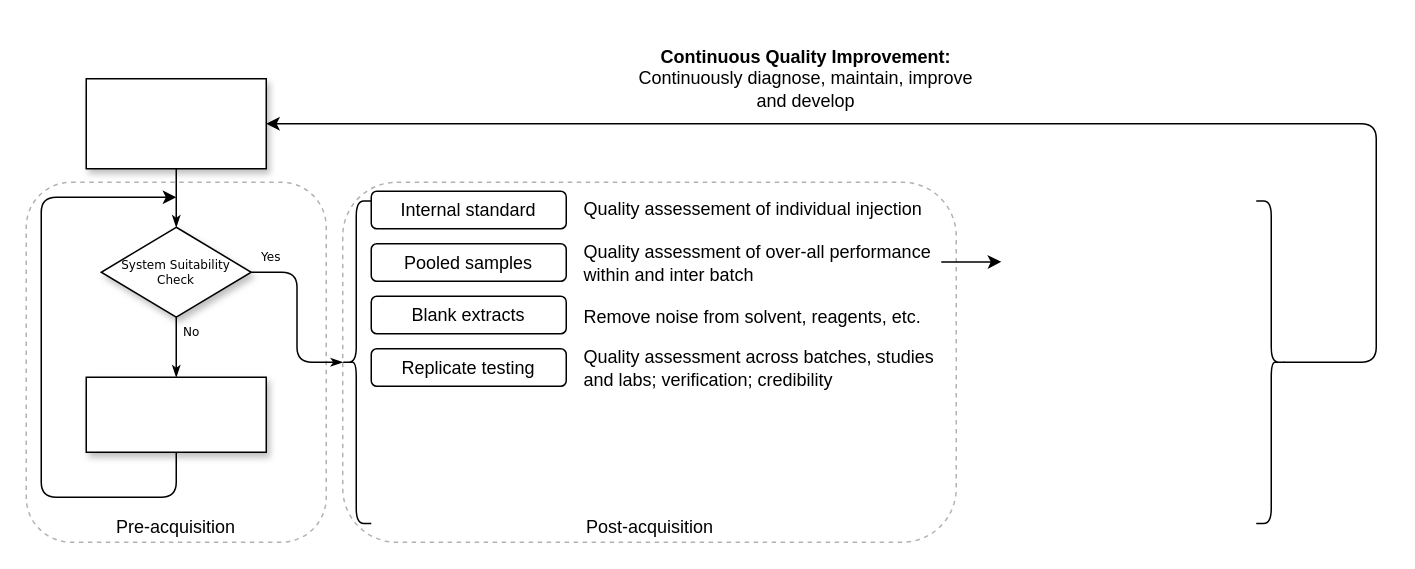
The diagram is 1415 pixels wide and 569 high, and some of its shapes have lost their labels. Each missing label, with the centre of its shape:
"Diagnose; Maintain, repair or adjust" belongs at point (177, 416).
"Untargeted Metabolomics Analysis (LC-MS based)" belongs at point (177, 125).
